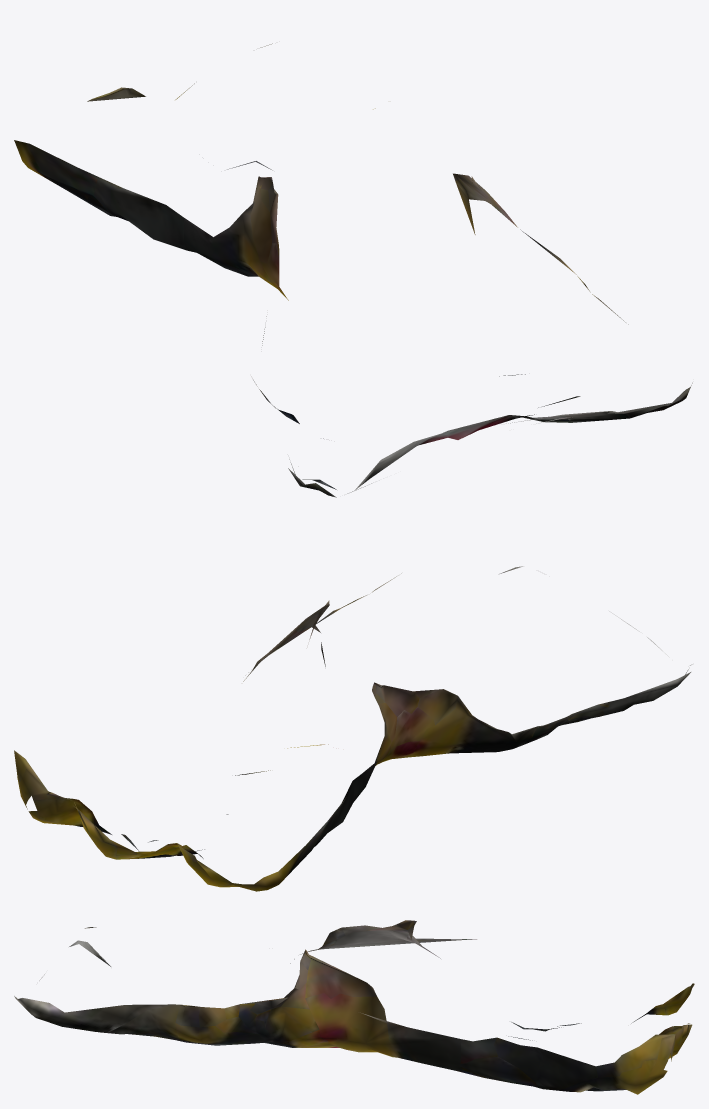
Rendered from hall.glb.
The picture shows the model from 3 angles, top to bottom: view 1: azimuth 30°, elevation 25°; view 2: azimuth 150°, elevation 25°; view 3: azimuth 270°, elevation 25°; orthographic projection. The views are drawn at different scales.
Size of the model in its own units: 0.4326 by 0.1386 by 0.7427.
1 material, 1 textured.
